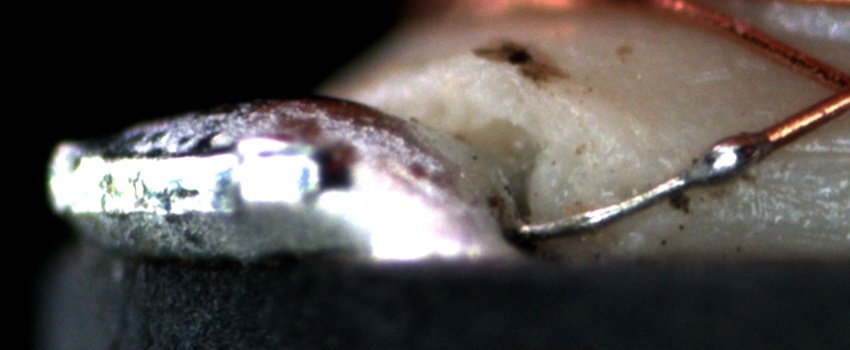CL: (807, 54, 849, 120)
DL: (778, 122, 849, 181)
TB: (697, 126, 765, 182)
TS: (520, 134, 768, 238)
TTCW: (516, 109, 811, 239)
